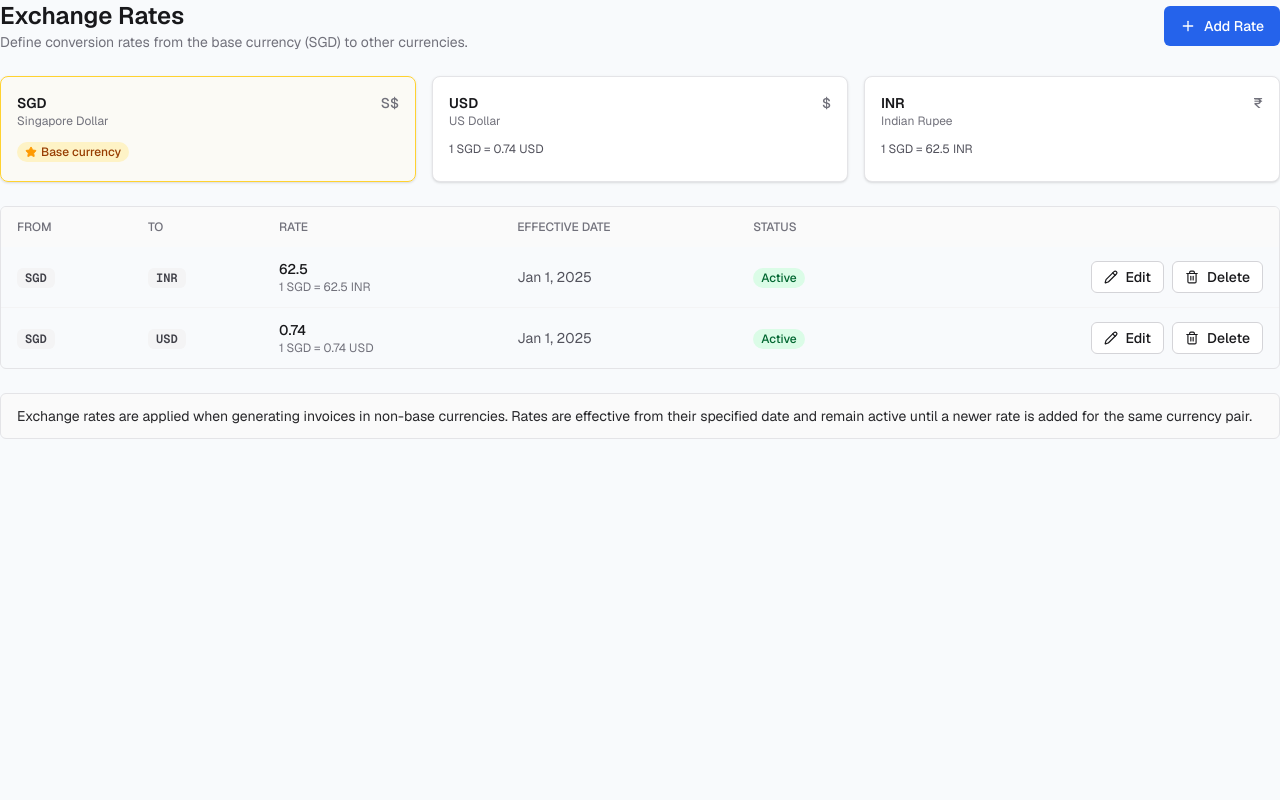
ExchangeRatesTable › opens the Add Rate modal when the header button is clicked
expect the text "Base currency" is shown: met, box [17,142,129,162]
Click the button "Add Rate" at {"x": 1222, "y": 26}, box [1164,6,1279,46]
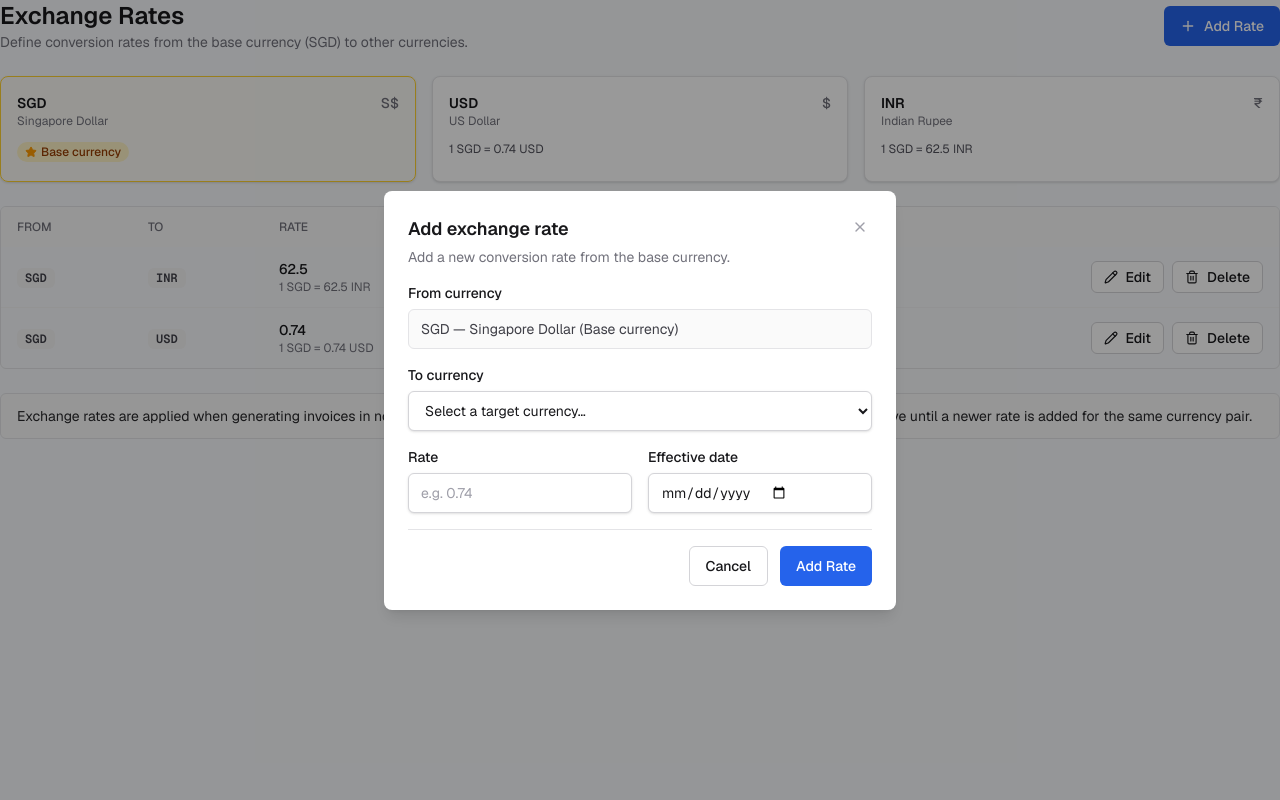
expect the heading "Add exchange rate" is shown: met, box [408,216,569,240]
